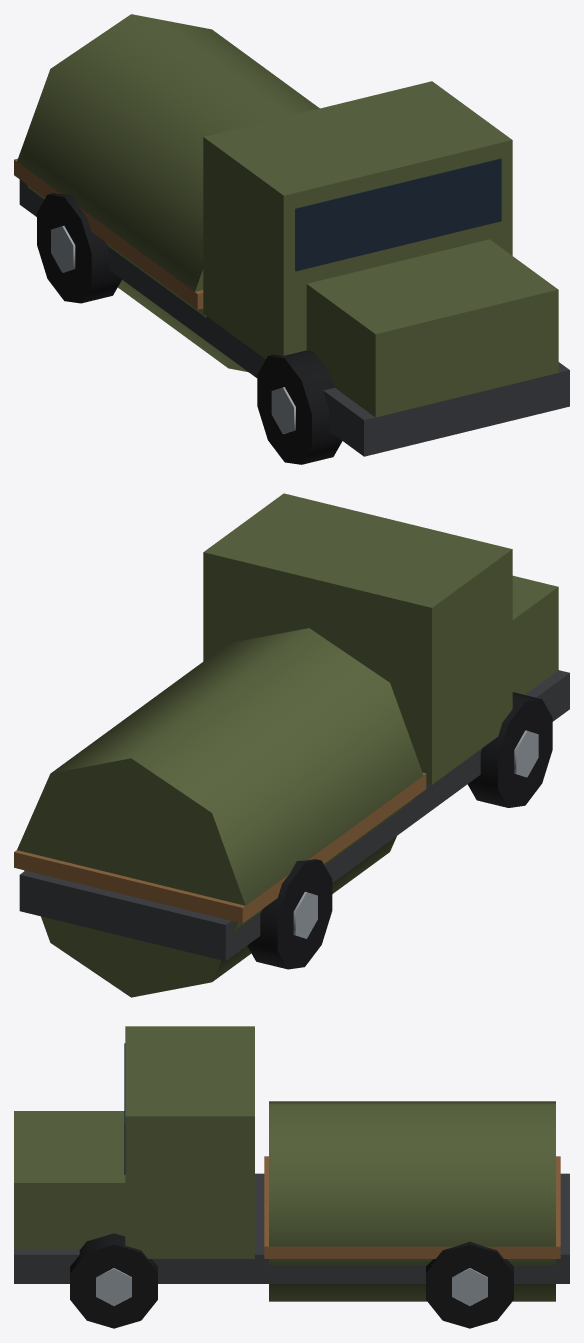
The model's file is veh_ground_truck_a05.glb.
3 views of the same model, one above another, from view 1: azimuth 30°, elevation 25°; view 2: azimuth 150°, elevation 25°; view 3: azimuth 270°, elevation 25° (orthographic). The views are drawn at different scales.
Parts seen in each view (by area): view 1: body, wheel_2, wheel_0; view 2: body, wheel_2, wheel_0; view 3: body, wheel_3, wheel_1.
Part boxes in pixels (x1,y1,x2,y2): body: (14, 14, 569, 456); wheel_2: (257, 350, 342, 464); wheel_0: (37, 193, 121, 303); body: (14, 493, 569, 997); wheel_2: (467, 692, 552, 807); wheel_0: (247, 859, 332, 969); body: (14, 1026, 569, 1301); wheel_3: (70, 1233, 157, 1328); wheel_1: (426, 1241, 513, 1328).
Size of what is drawn, in the model's own units: 2.46 by 2.7 by 6.
